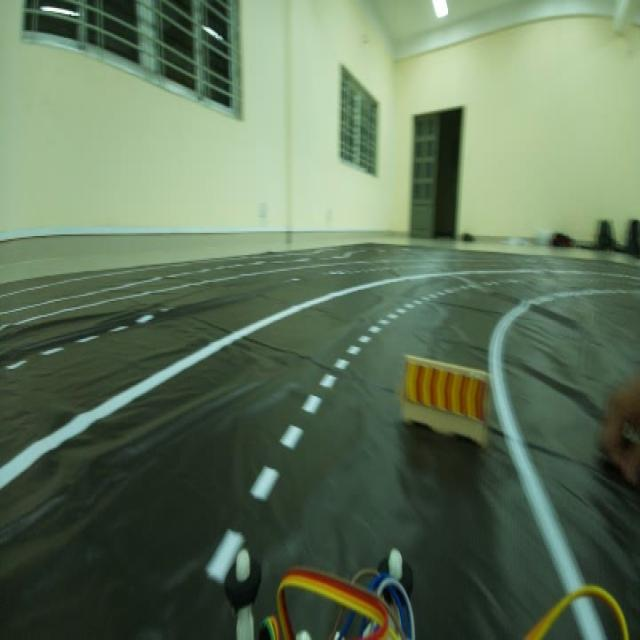roadblock: (397, 345, 492, 445)
